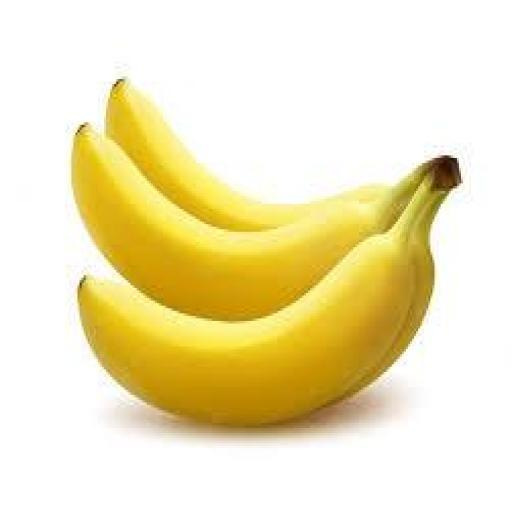banana: (78, 166, 452, 425), (72, 125, 442, 320), (107, 79, 387, 231)
